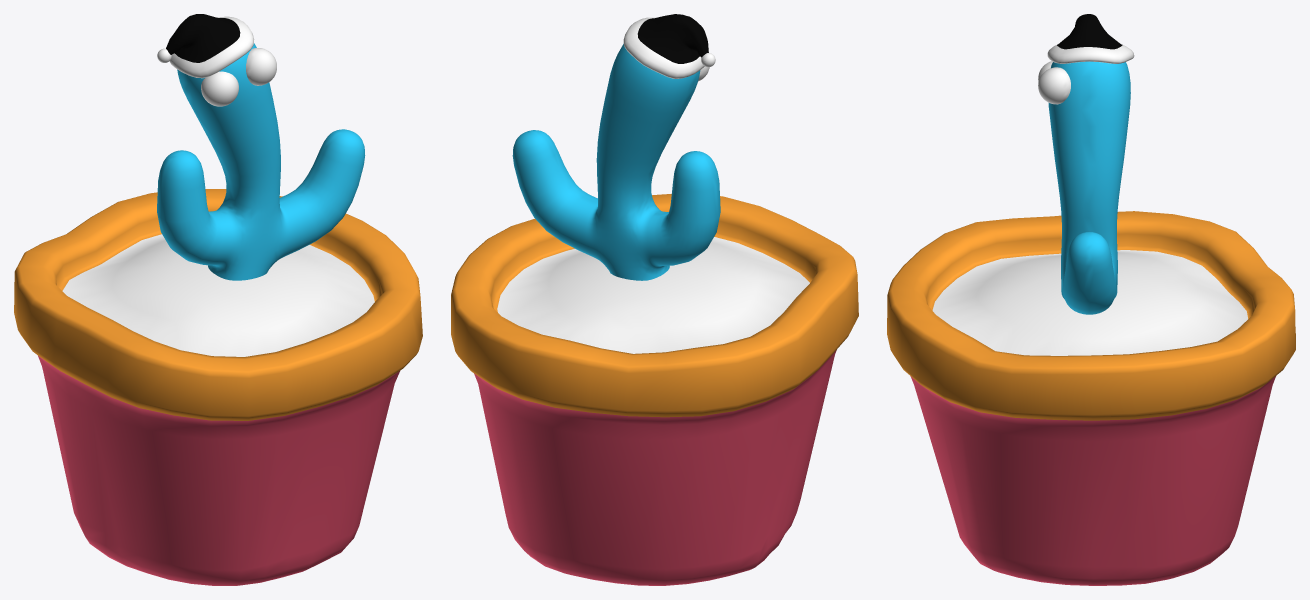
File: ToyObject_225.fbx
3 renders of one model, left to right at view 1: azimuth 30°, elevation 25°; view 2: azimuth 150°, elevation 25°; view 3: azimuth 270°, elevation 25°, orthographic. The views are drawn at different scales.
Visible parts, largest first — view 1: Object.082; view 2: Object.082; view 3: Object.082.
Boxes of the visible parts, box(x1,y1,x2,y2) form: Object.082: box(14, 14, 422, 585); Object.082: box(451, 14, 858, 585); Object.082: box(887, 14, 1295, 585).
Size of the model in its own units: 0.1385 by 0.2096 by 0.1492.
